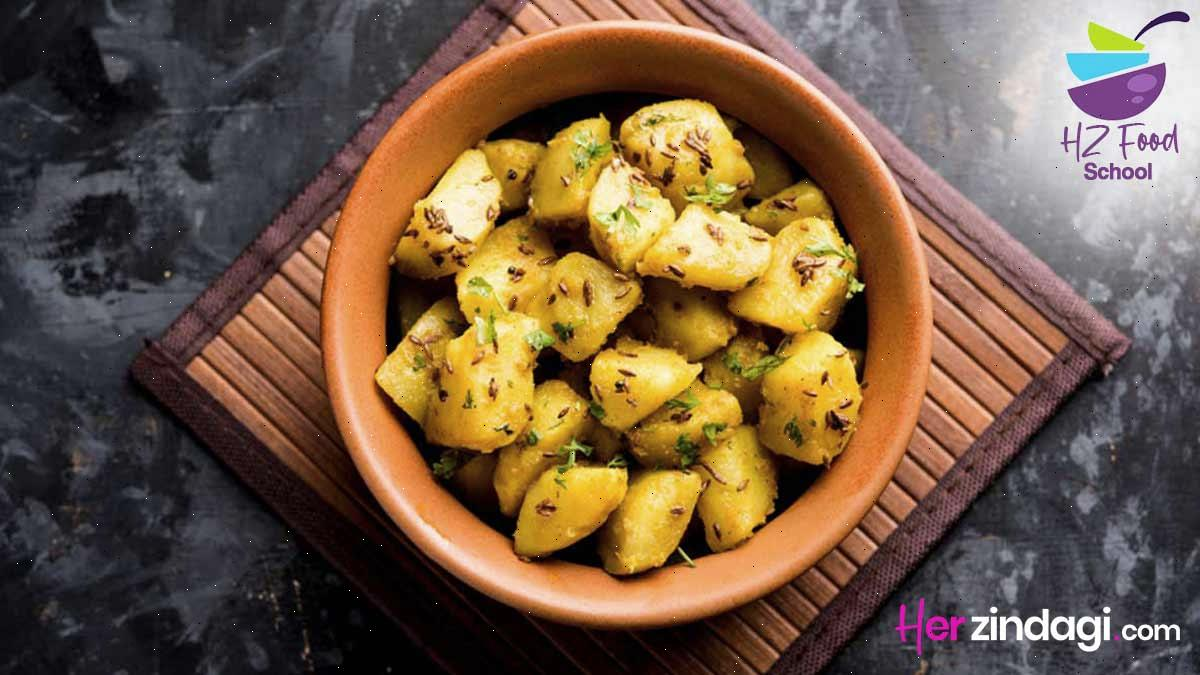aloo sabji: (417, 122, 841, 535)
